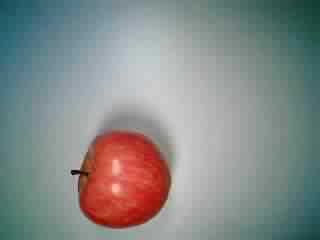apple: (68, 125, 171, 229)
